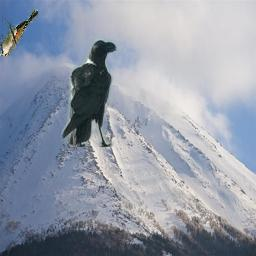Crow: (61, 39, 117, 148)
Cuckoo: (0, 10, 38, 57)
